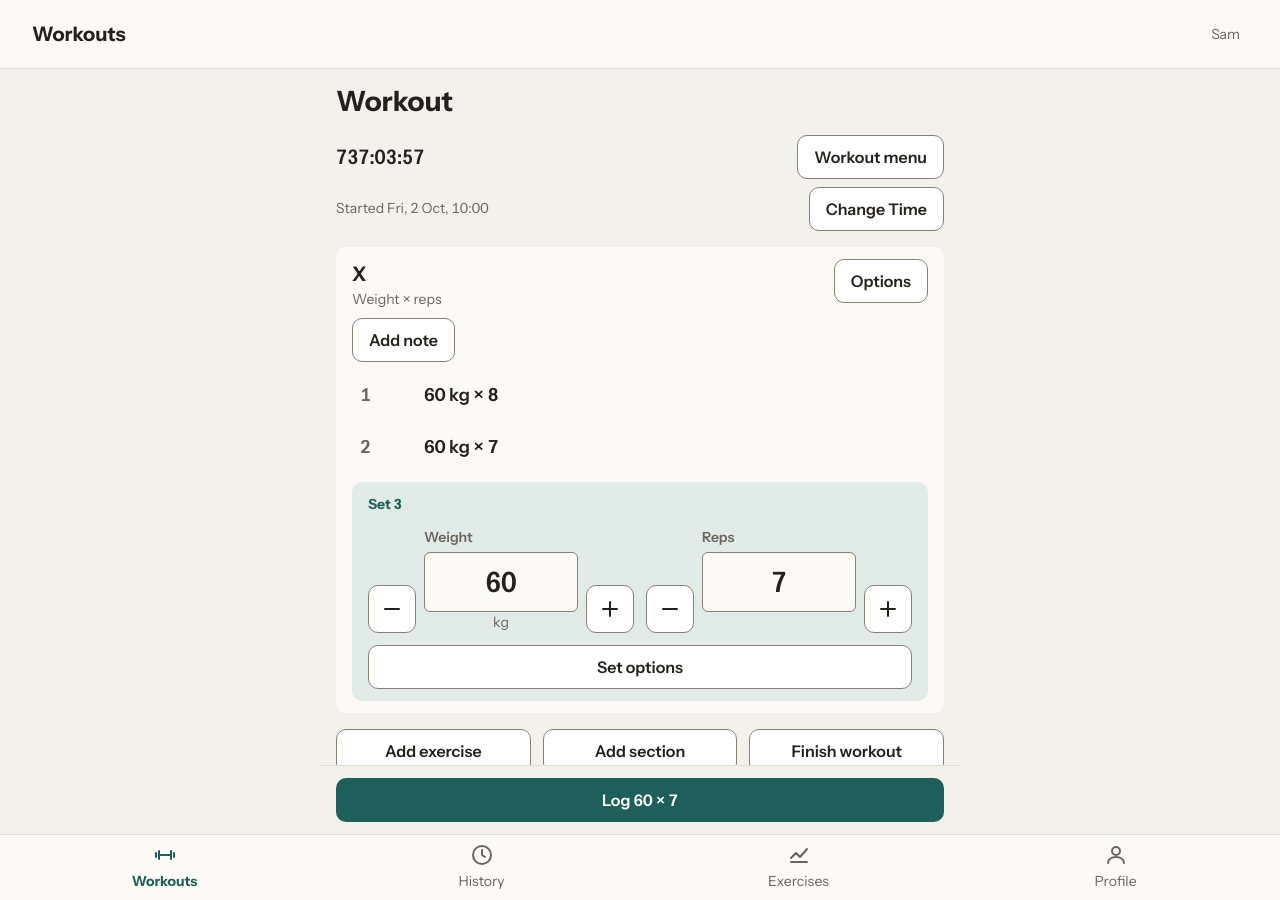
Test: AC25 — edit and delete a logged set › a weight-only edit sends only { weight } and updates the row without a refetch
This screenshot has width=1280, height=900.
Expected: the heading "Workout" is shown, [336,84,453,118]
Click the button "1 60 kg × 8": x=461, y=395 [352,374,928,418]
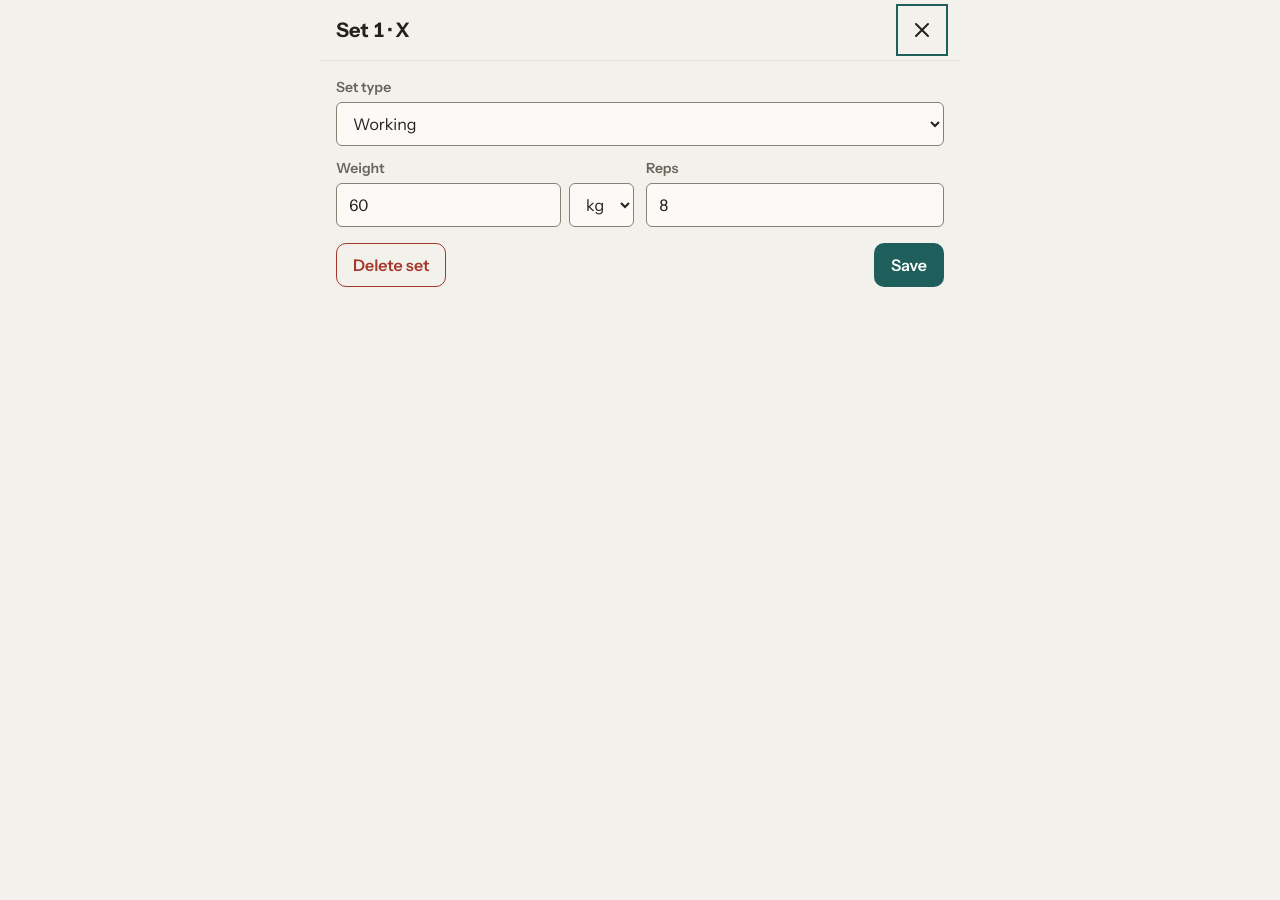
Replace the text in the field labelled "Weight" with "62.5": x=448, y=205 [336,183,561,227]
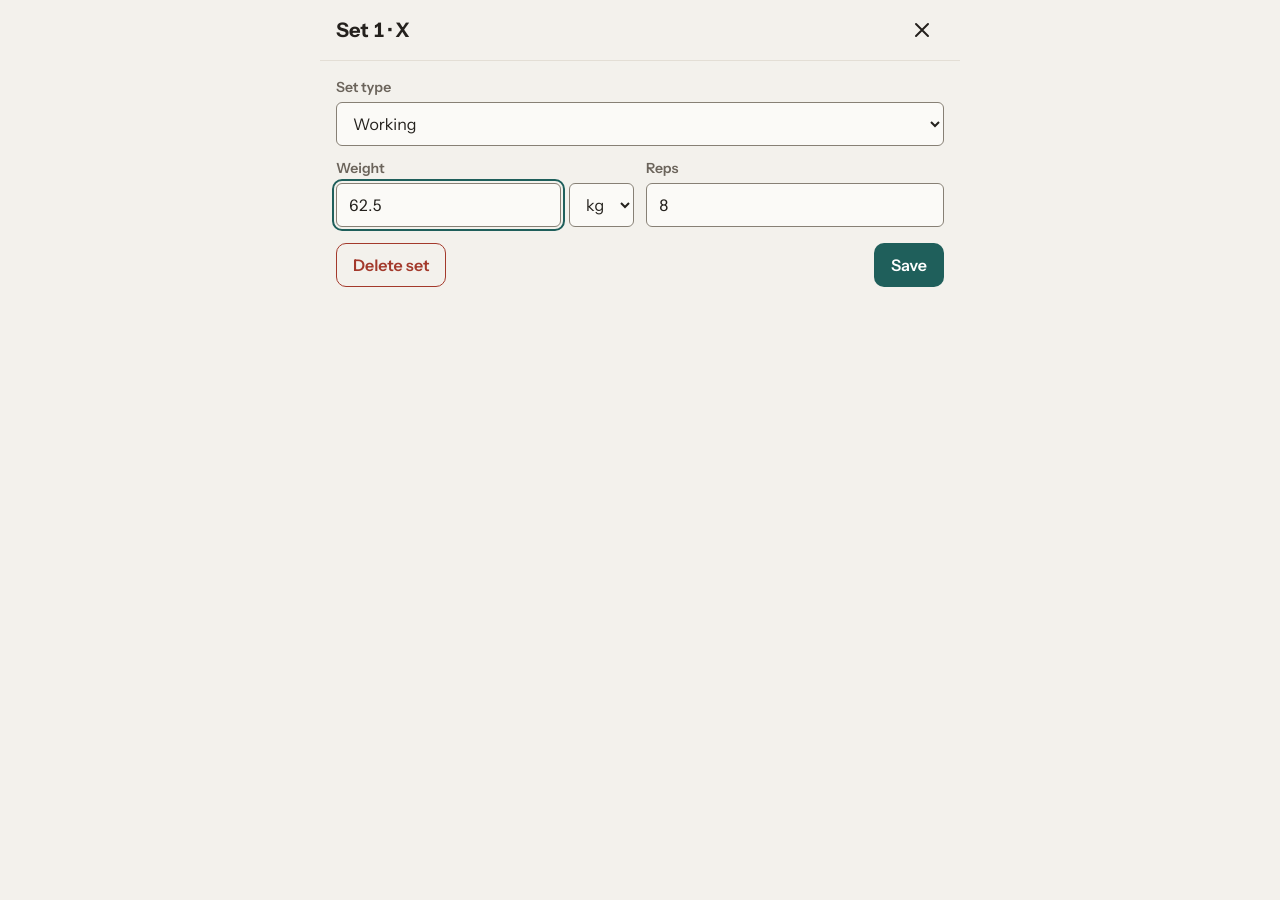
Click the button "Save": x=909, y=265 [874,243,944,287]
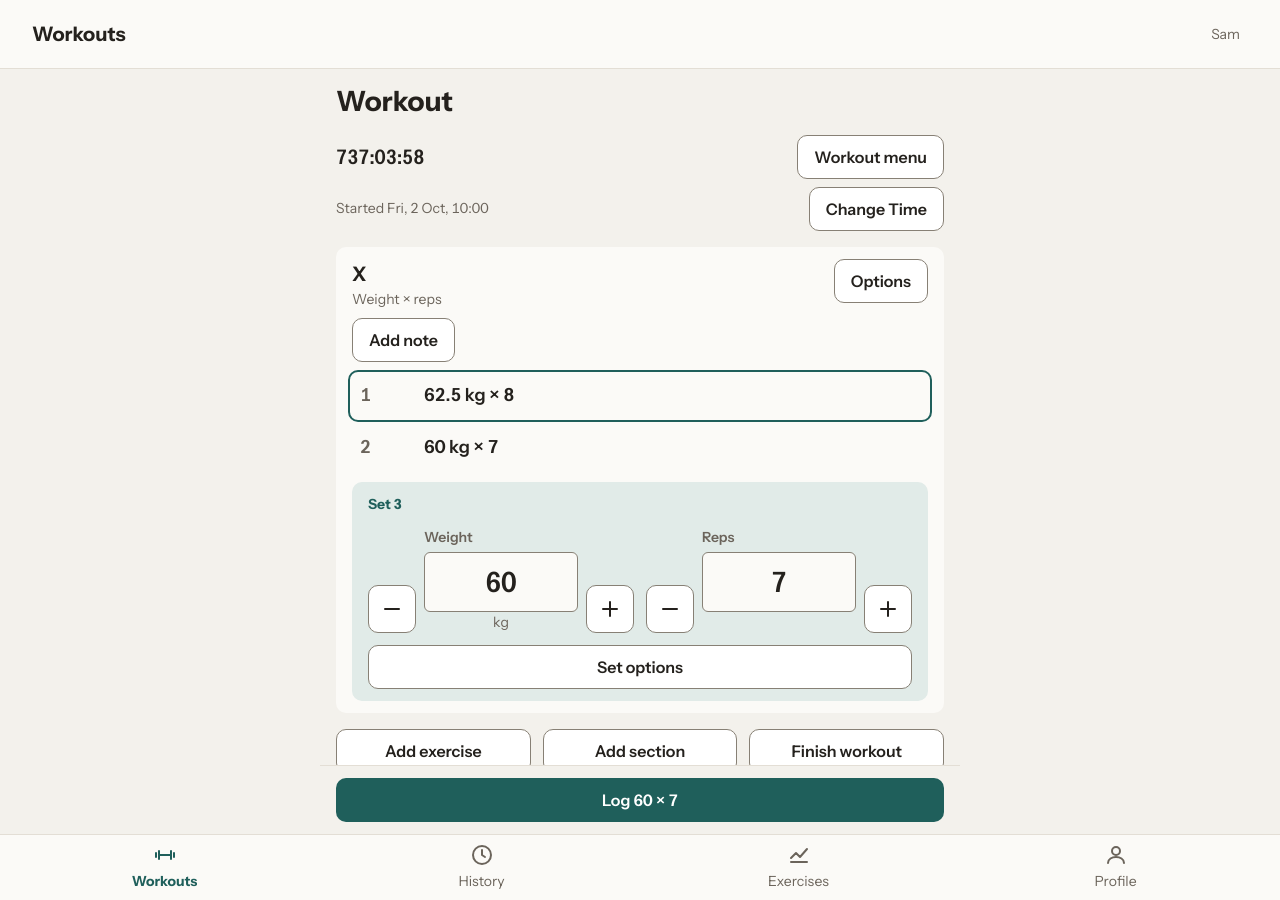
Expected: the text "62.5 kg × 8" is shown, [424,382,514,409]
